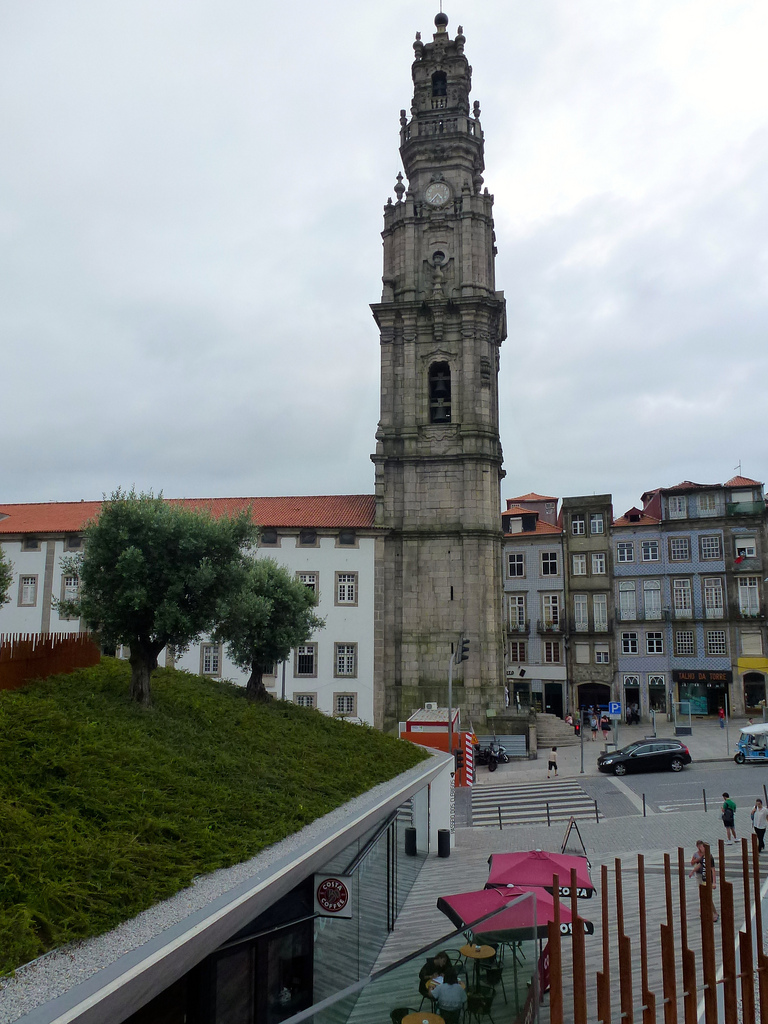clerigos: (369, 0, 508, 737)
